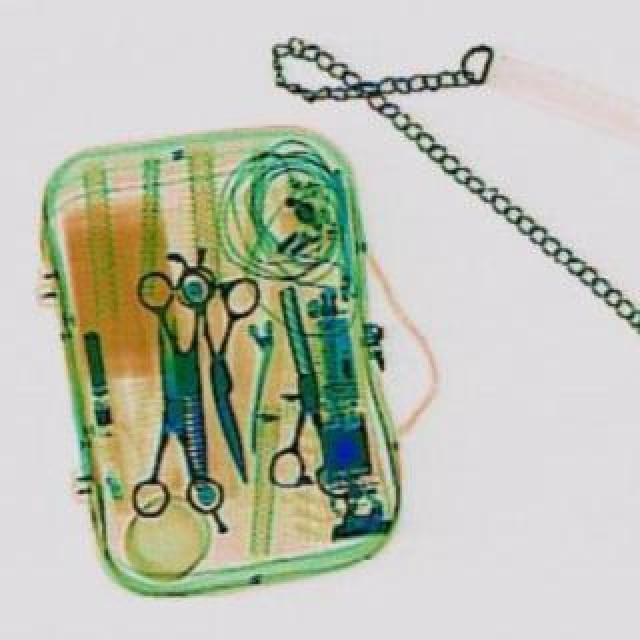pliers: (132, 262, 236, 508), (246, 278, 356, 498), (118, 322, 218, 514), (190, 266, 266, 482)
